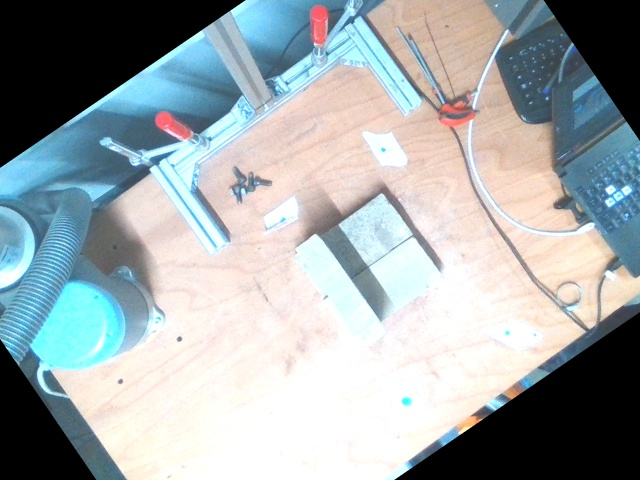brick-side: (297, 233, 385, 344)
